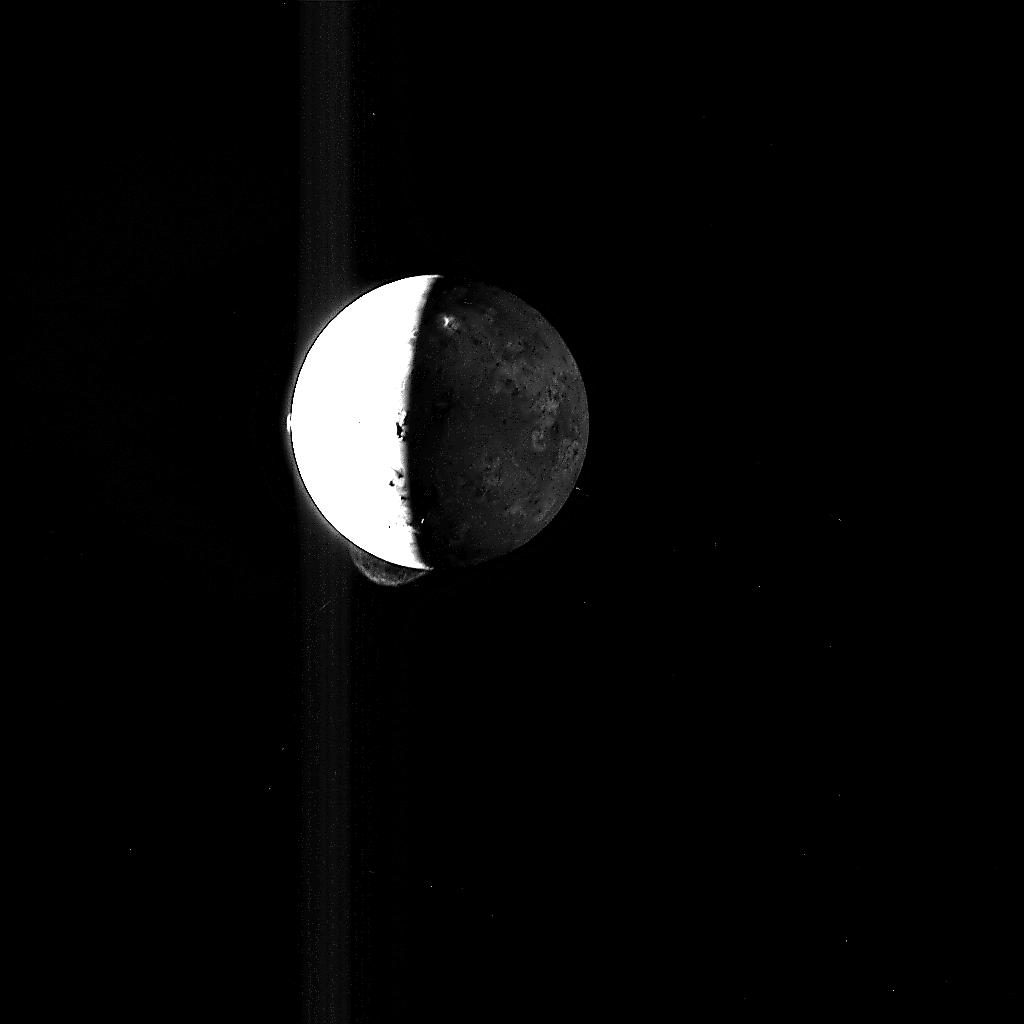plumes: (346, 542, 428, 586), (286, 412, 292, 436)
